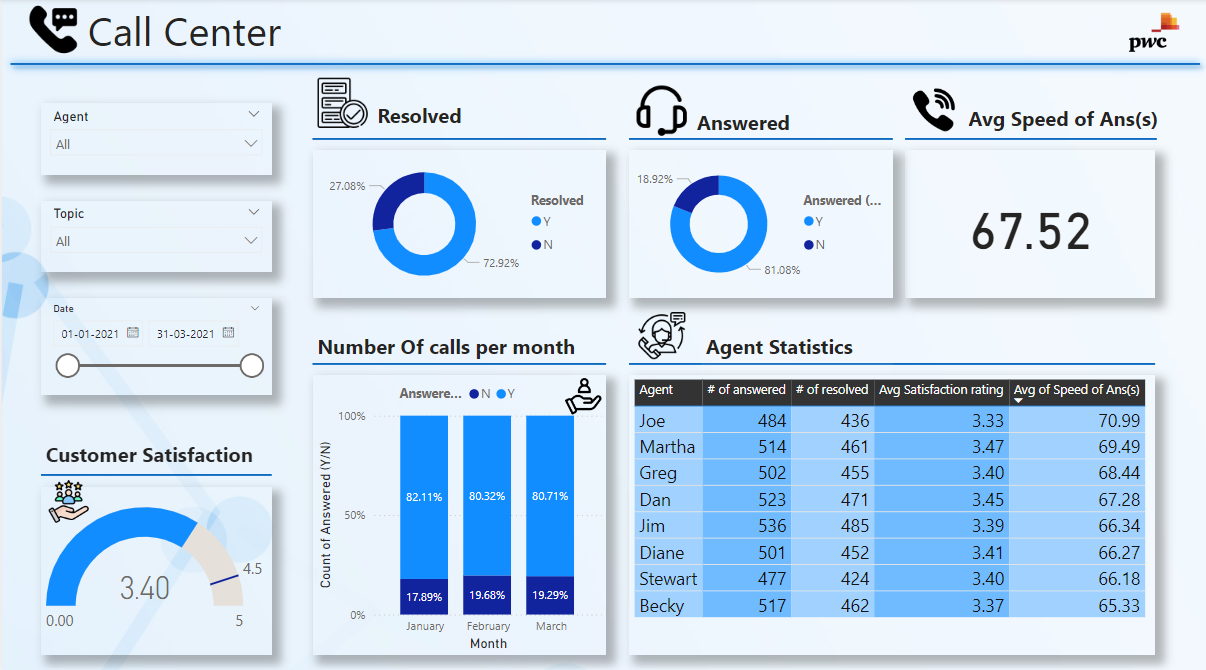

The dashboard page shown, as its layout file describes it:
{"tool":"powerbi","page":{"name":"Customer Service Insights","canvas":[1280,720],"ordinal":0},"visuals":[{"type":"tableEx","title":"Agent''s Performance Matrix","fields":{"Values":["Sheet1.Agent","Sheet1.# of answered","Sheet1.# of resolved","Sheet1.Satisfaction rating","Sheet1.Speed of answer in seconds"]},"box":[664.4,398.9,557.9,297.2],"z":0},{"type":"gauge","title":"Average Satisfication","fields":{"Y":["Sheet1.Satisfaction rating"],"MaxValue":["Sheet1.Satisfaction rating"],"TargetValue":["Sheet1.Target satisfication rating"]},"box":[41.3,518.1,244.8,178],"z":1000},{"type":"card","title":"Average Speed of answer(s)","fields":{"Values":["Sheet1.Speed of answer in seconds"]},"box":[956.8,160.5,265.4,157.3],"z":2000},{"type":"donutChart","title":"Answered","fields":{"Category":["Sheet1.Answered (Y/N)"],"Y":["Sheet1.Call Id"]},"box":[664.4,160.5,279.7,157.3],"z":3000},{"type":"slicer","fields":{"Values":["Sheet1.Agent"]},"box":[41.3,111.2,244.8,76.3],"z":4000},{"type":"slicer","fields":{"Values":["Sheet1.Topic"]},"box":[41.3,214.6,244.8,76.3],"z":5000},{"type":"hundredPercentStackedColumnChart","title":"Number of calls per month","fields":{"Category":["Sheet1.Date.Variation.Date Hierarchy.Month"],"Series":["Sheet1.Answered (Y/N)"],"Y":["Sheet1.Answered (Y/N)"]},"box":[329,398.9,311.5,297.2],"z":6000},{"type":"donutChart","title":"Resolved","fields":{"Y":["Sheet1.Call Id"],"Category":["Sheet1.Resolved"]},"box":[329,160.5,311.5,157.3],"z":7000},{"type":"slicer","fields":{"Values":["Sheet1.Date"]},"box":[41.3,317.9,244.8,103.3],"z":8000},{"type":"shape","box":[0,52.5,1279.5,35],"z":9000},{"type":"textbox","box":[85.8,0,243.2,69.9],"z":10000},{"type":"image","box":[22.2,0,63.6,66.8],"z":11000},{"type":"shape","box":[329,79.5,311.5,139.9],"z":12000},{"type":"shape","box":[664.4,79.5,279.7,139.9],"z":13000},{"type":"textbox","box":[731.1,111.2,127.2,50.9],"z":14000},{"type":"textbox","box":[392.6,103.3,119.2,50.9],"z":15000},{"type":"image","box":[329,73.1,63.6,76.3],"z":16000},{"type":"image","box":[664.4,87.4,69.9,63.6],"z":17000},{"type":"shape","box":[956.8,79.5,267,139.9],"z":18000},{"type":"image","box":[956.8,90.6,62,55.6],"z":19000},{"type":"textbox","box":[1018.8,106.5,235.2,42.9],"z":20000},{"type":"shape","box":[329,317.9,311.5,139.9],"z":21000},{"type":"textbox","box":[329,348.1,311.5,42.9],"z":22000},{"type":"shape","box":[664.4,317.9,557.9,139.9],"z":23000},{"type":"textbox","box":[740.7,348.1,203.4,49.3],"z":24000},{"type":"shape","box":[41.3,435.5,244.8,139.9],"z":25000},{"type":"textbox","box":[41.3,462.5,244.8,42.9],"z":26000},{"type":"image","box":[591.2,397.4,49.3,49.3],"z":27000},{"type":"image","box":[667.5,327.4,63.6,60.4],"z":28000},{"type":"image","box":[41.3,505.4,58.8,55.6],"z":29000},{"type":"image","box":[1190.5,6.3,63.6,60.4],"z":30000}]}

Visuals, with their boxes in screenshot pixels (x1, y1, x2, y2), scaled from the page's 1280x720 canvas onto the 1206x670 screenshot:
"Agent''s Performance Matrix" tableEx: bbox=[626, 371, 1152, 648]
"Average Satisfication" gauge: bbox=[39, 482, 270, 648]
"Average Speed of answer(s)" card: bbox=[901, 149, 1152, 296]
"Answered" donutChart: bbox=[626, 149, 890, 296]
slicer - Sheet1.Agent: bbox=[39, 103, 270, 174]
slicer - Sheet1.Topic: bbox=[39, 200, 270, 271]
"Number of calls per month" hundredPercentStackedColumnChart: bbox=[310, 371, 603, 648]
"Resolved" donutChart: bbox=[310, 149, 603, 296]
slicer - Sheet1.Date: bbox=[39, 296, 270, 392]
shape: bbox=[0, 49, 1205, 81]
textbox: bbox=[81, 0, 310, 65]
image: bbox=[21, 0, 81, 62]
shape: bbox=[310, 74, 603, 204]
shape: bbox=[626, 74, 890, 204]
textbox: bbox=[689, 103, 809, 151]
textbox: bbox=[370, 96, 482, 143]
image: bbox=[310, 68, 370, 139]
image: bbox=[626, 81, 692, 141]
shape: bbox=[901, 74, 1153, 204]
image: bbox=[901, 84, 960, 136]
textbox: bbox=[960, 99, 1182, 139]
shape: bbox=[310, 296, 603, 426]
textbox: bbox=[310, 324, 603, 364]
shape: bbox=[626, 296, 1152, 426]
textbox: bbox=[698, 324, 890, 370]
shape: bbox=[39, 405, 270, 535]
textbox: bbox=[39, 430, 270, 470]
image: bbox=[557, 370, 603, 416]
image: bbox=[629, 305, 689, 361]
image: bbox=[39, 470, 94, 522]
image: bbox=[1122, 6, 1182, 62]
